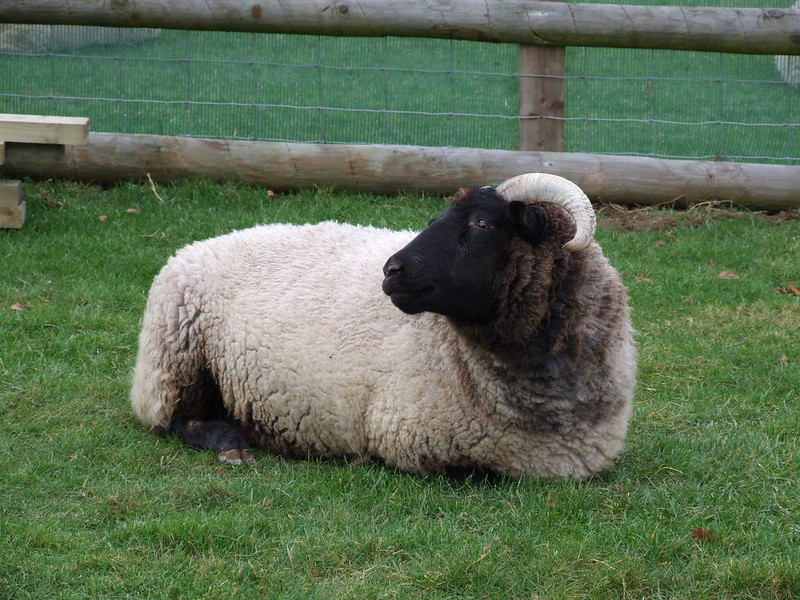sheep: (128, 140, 645, 493)
